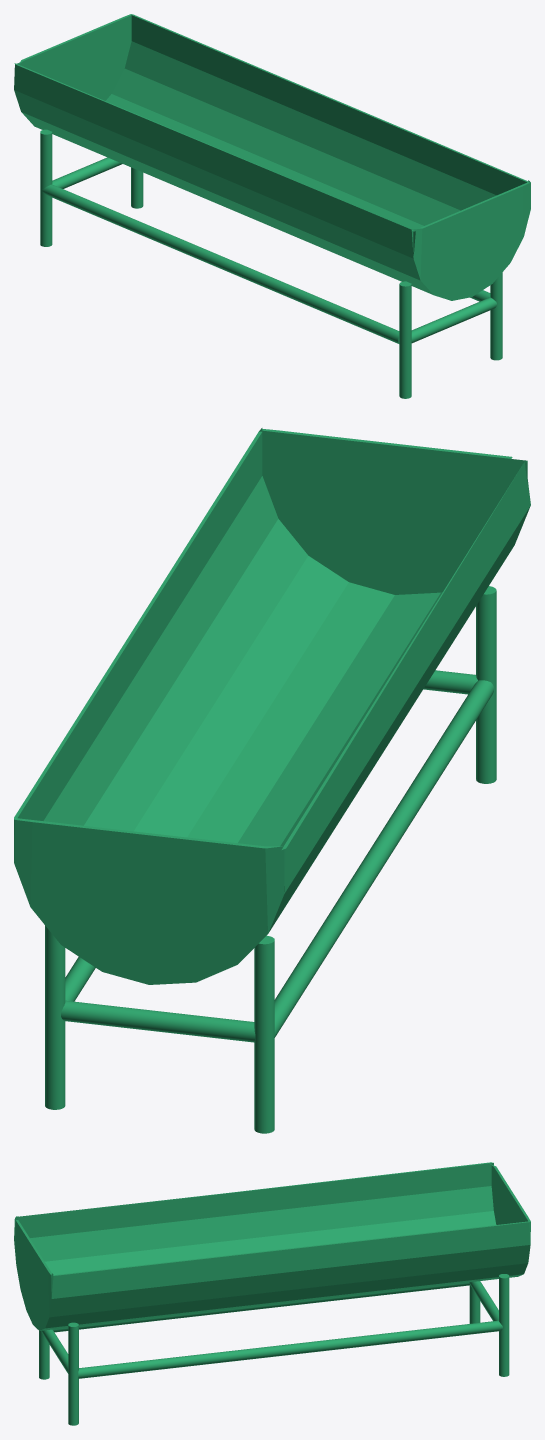
The model's file is 8yBTH_Bwfnn.glb.
3 views of the same model, one above another, from view 1: azimuth 30°, elevation 25°; view 2: azimuth 150°, elevation 25°; view 3: azimuth 270°, elevation 25° (orthographic). The views are drawn at different scales.
Parts seen in each view (by area): view 1: Cylinder001; view 2: Cylinder001; view 3: Cylinder001.
Part boxes in pixels (x1,y1,x2,y2): Cylinder001: (14, 14, 530, 398); Cylinder001: (14, 428, 530, 1133); Cylinder001: (14, 1162, 530, 1425).
Size of the model in its own units: 1.53 by 0.9998 by 2.94.
